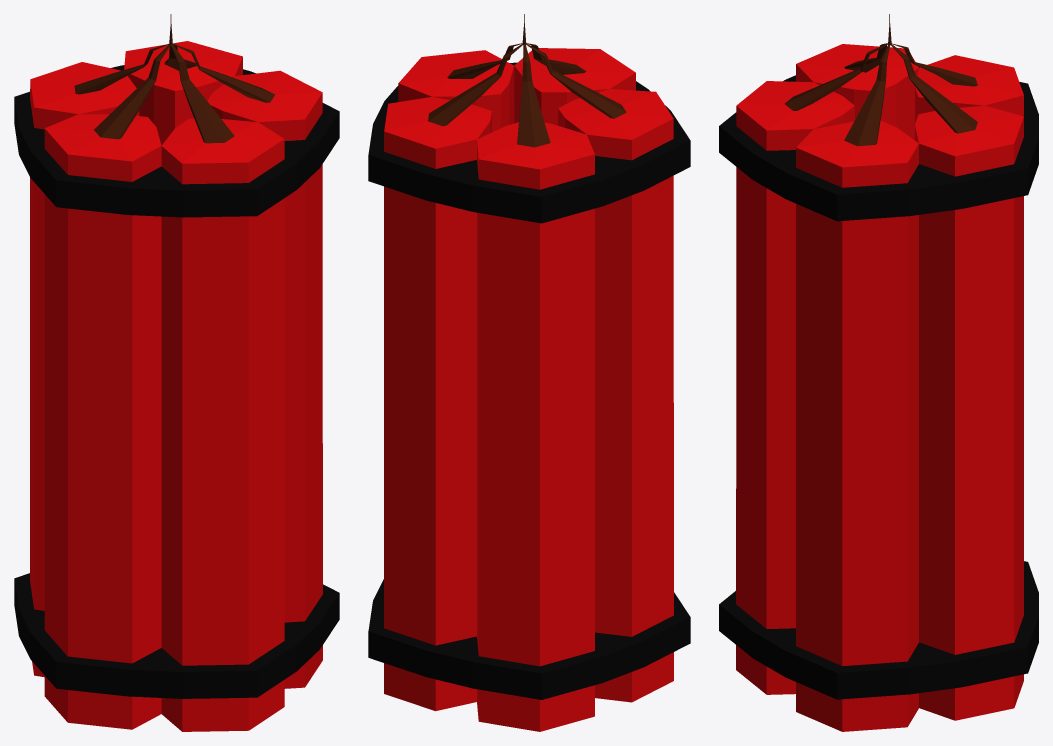
Rendered from lowpoly_dynamite.fbx.
The picture shows the model from 3 angles, left to right: view 1: azimuth 30°, elevation 25°; view 2: azimuth 150°, elevation 25°; view 3: azimuth 270°, elevation 25°; orthographic projection.
Visible parts, largest first — view 1: Dynamite; view 2: Dynamite; view 3: Dynamite.
Part boxes in pixels (x1=…): Dynamite: x1=14, y1=14, x2=339, y2=731; Dynamite: x1=368, y1=14, x2=690, y2=731; Dynamite: x1=719, y1=14, x2=1038, y2=731.
Bounding box in the file's own units: 12.85 × 28.61 × 12.65.
